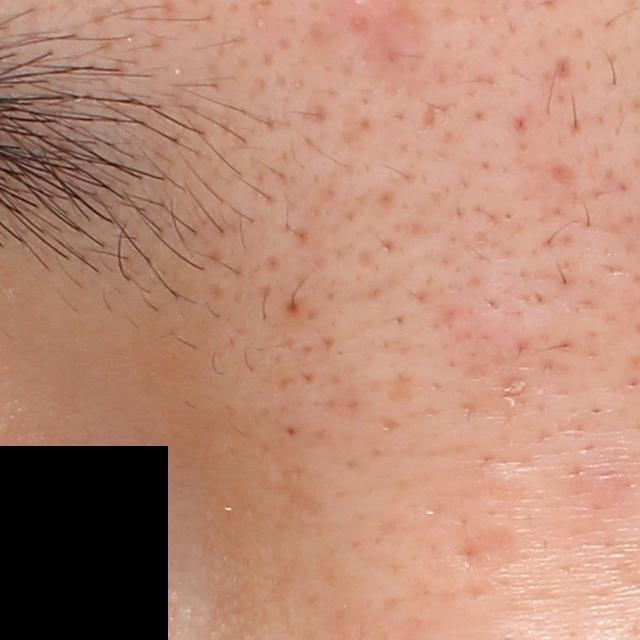atrophic_scar: (452, 525, 522, 577)
